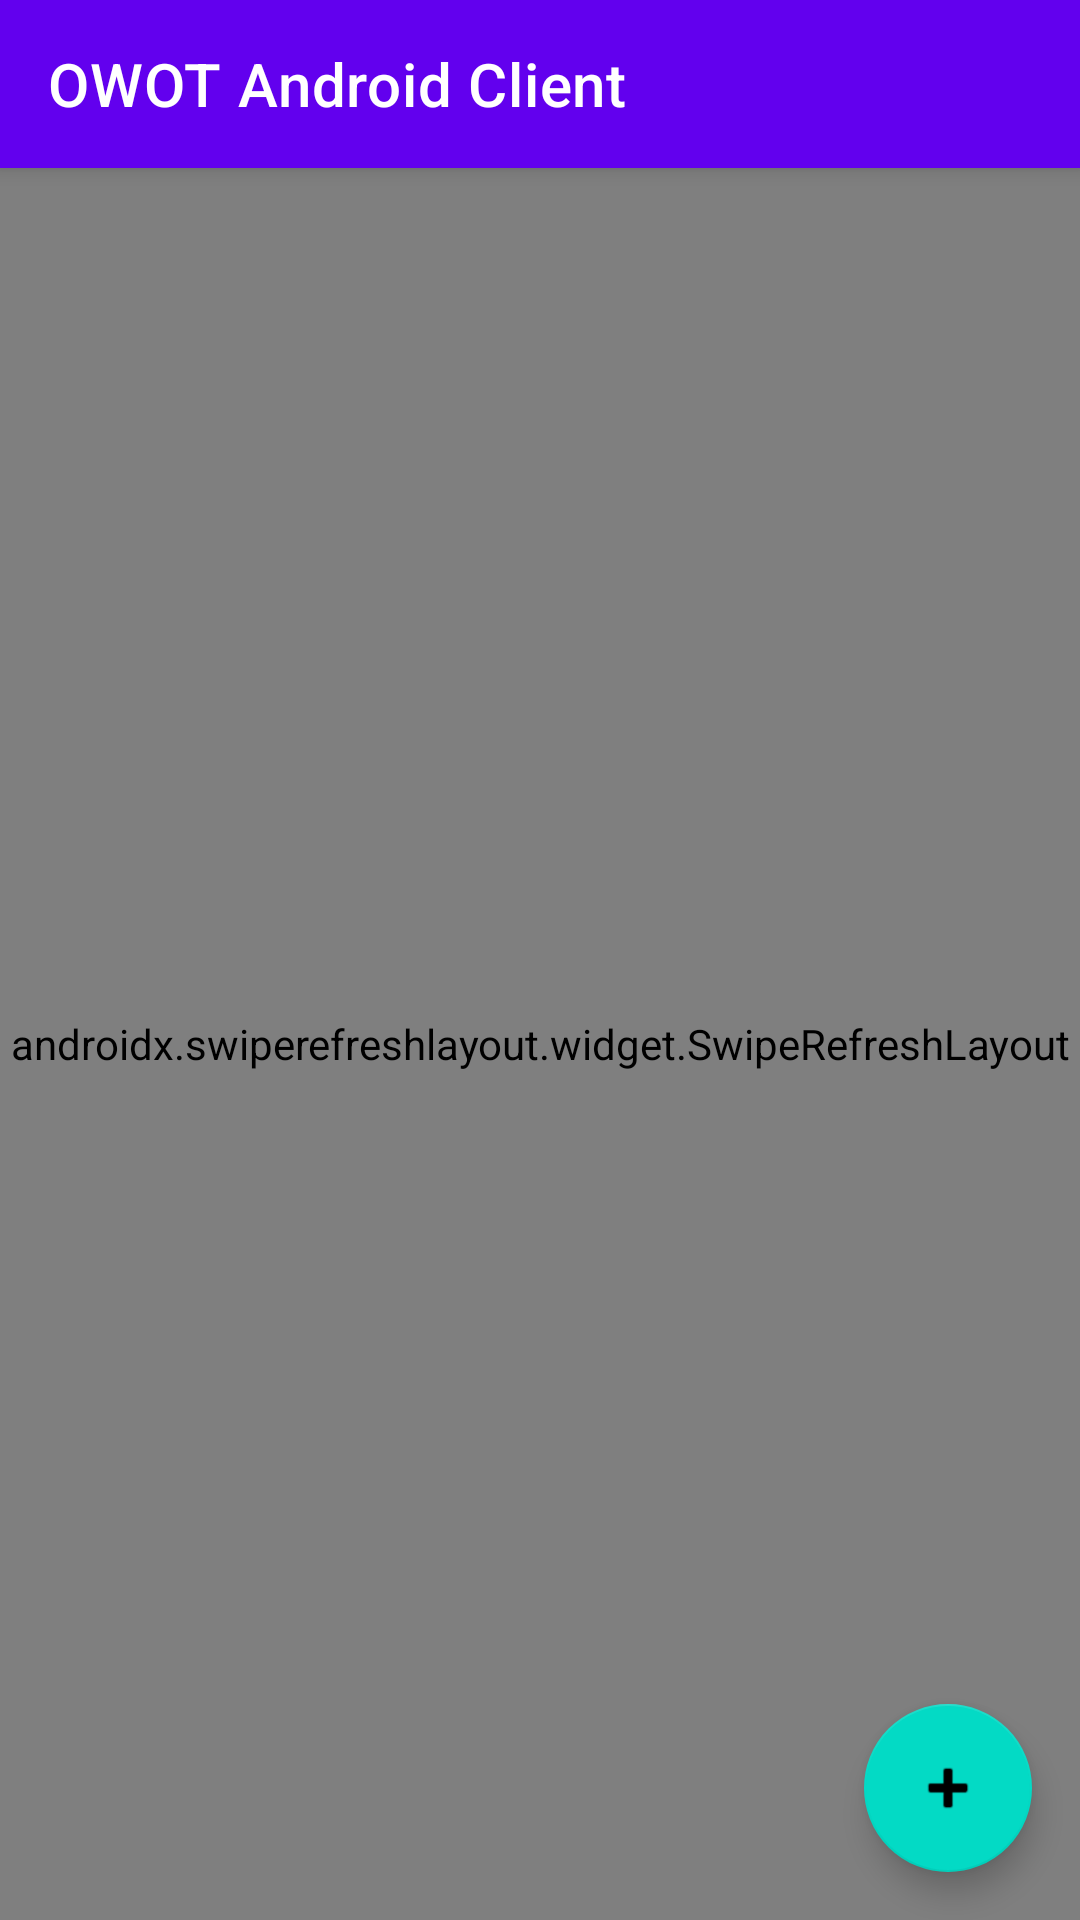

Icon bounding boxes for this 1080 x 1920 phone screenshot, format (x1, y1, x2, y2):
Add World: (864, 1704, 1032, 1872)
